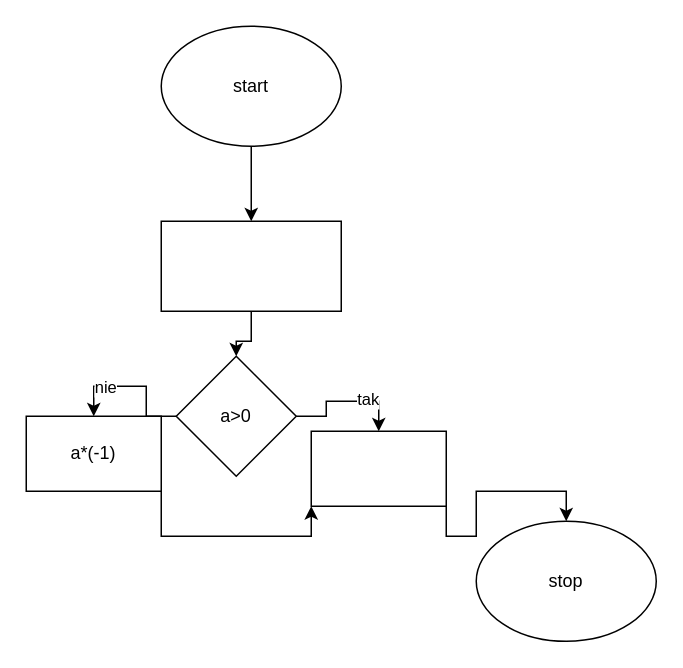
Image size: 683x668. Some labels were removed from this diagram. Each missing label, with the centre of its shape:
"pobranie a" goes at (250,265).
"wyswietl a" goes at (378,468).
